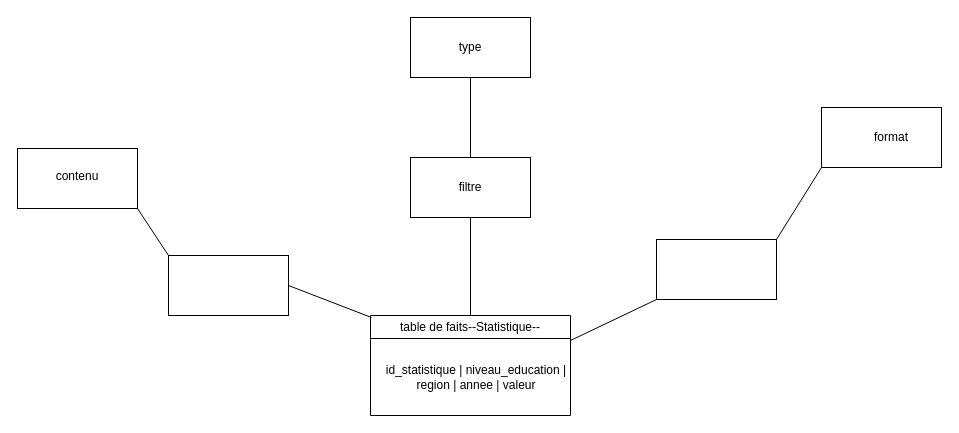
The diagram is 959 pixels wide and 433 high, and some of its shapes have lost their labels. The shapes that lost their labels are listed below. From the top down, each one's centre as x and y in pixels, then its label:
the point at 228,285: fichier
the point at 716,269: rapport
